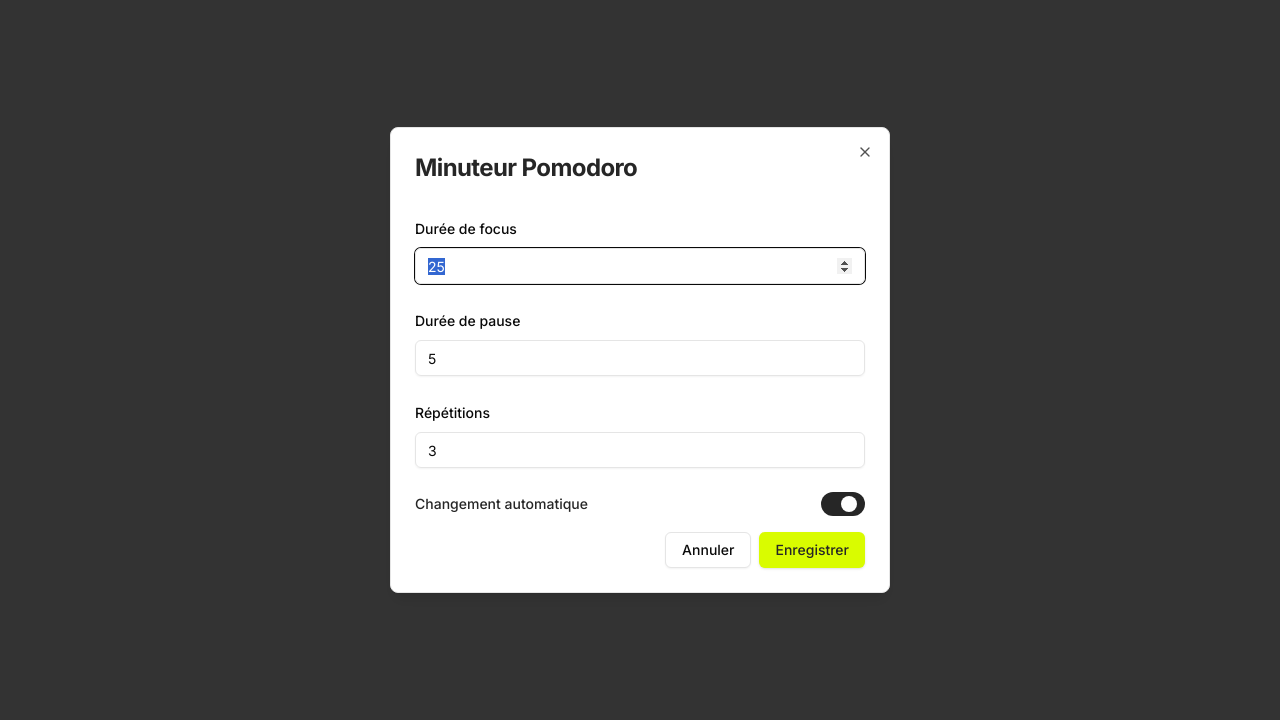
PomodoroSettingsModal › shows validation errors for invalid focus duration
Replace the text in the number field showing "25" with "100" at (640, 266), box [415,248,865,284]
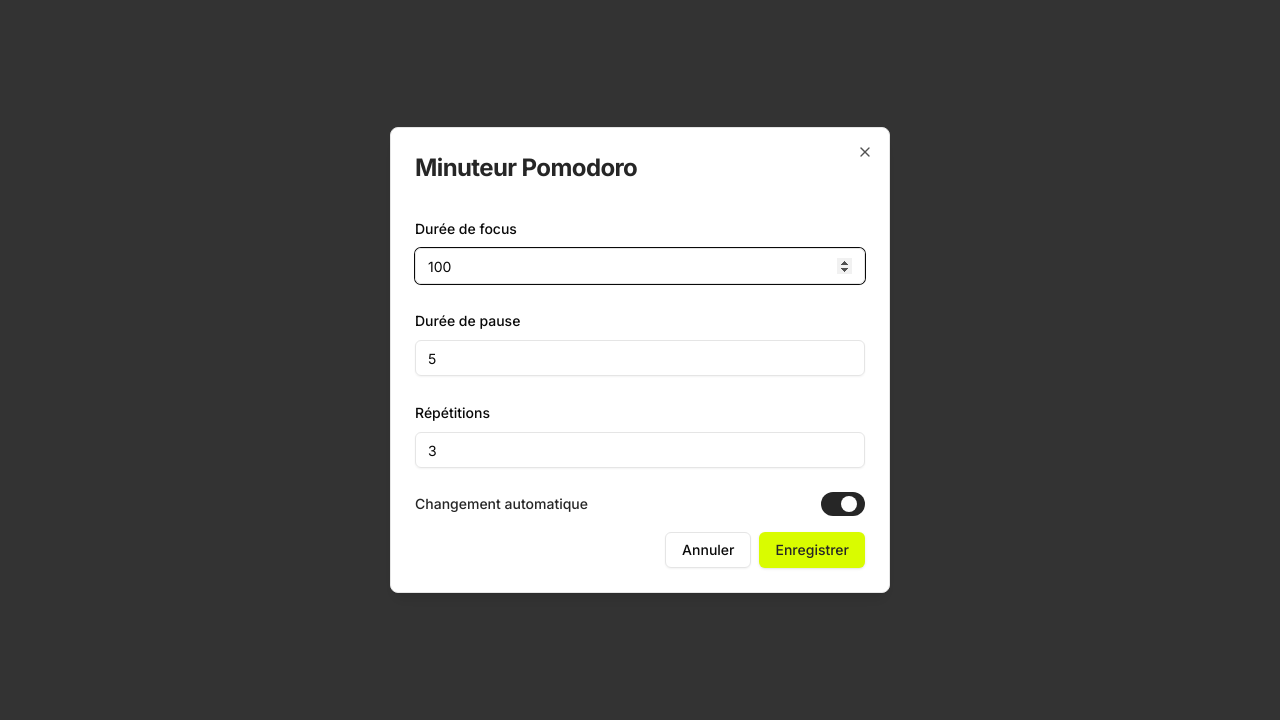
Click the button "Enregistrer" at (812, 550), box [760,532,865,568]
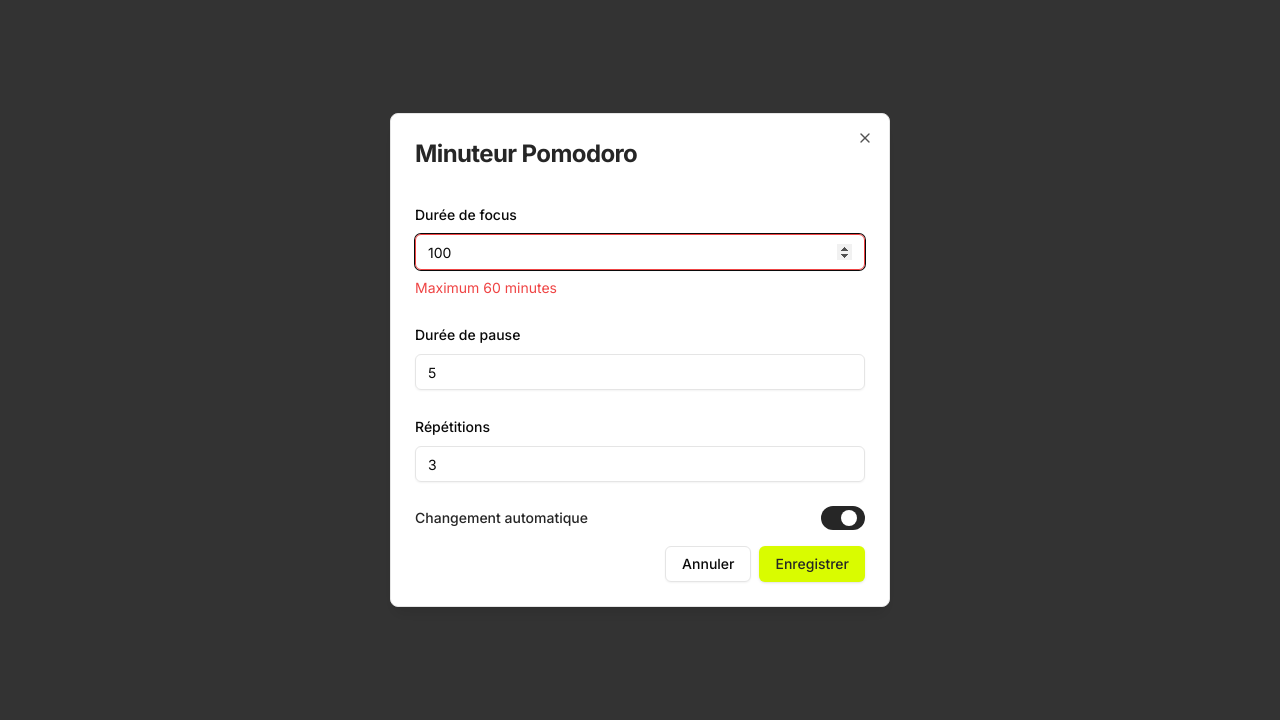
Expected: the text "Maximum 60 minutes" is shown, [415,279,557,296]
